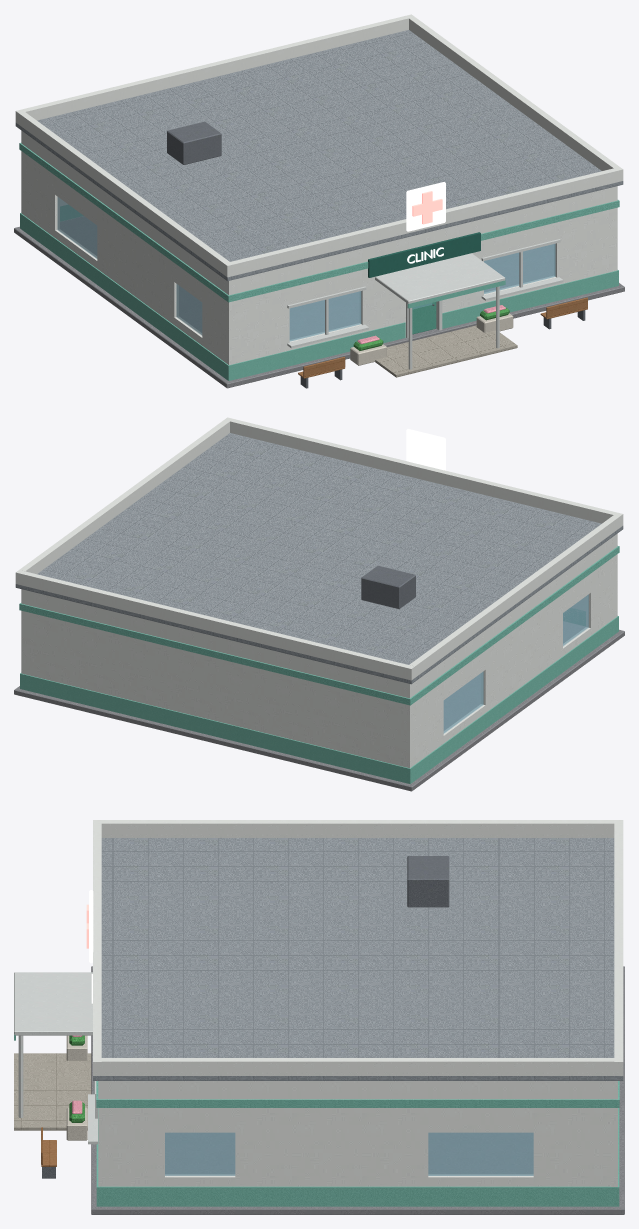
Rendered from exterior.glb.
The picture shows the model from 3 angles, top to bottom: view 1: azimuth 30°, elevation 25°; view 2: azimuth 150°, elevation 25°; view 3: azimuth 270°, elevation 25°; orthographic projection. The views are drawn at different scales.
Visible parts, largest first — view 1: EX_Roof.002, EX_Plinth.004, EX_Walls.003, EX_Parapet_Back.003, EX_Parapet_Front0.003, EX_ShellW_01.010, EX_ShellFront_00.014, EX_ShellFront_03.012, EX_MintBandTop, EX_Step.003, EX_Parapet_W.003, EX_Parapet_E.003 (+26 smaller); view 2: EX_Roof.002, EX_ShellBack_00.014, EX_Walls.003, EX_MintBand_Back, EX_Plinth.004, EX_Parapet_Back.003, EX_Parapet_Front0.003, EX_ShellW_01.010, EX_MintBandTop, EX_Parapet_W.003, EX_Parapet_E.003, EX_MintBand_W (+9 smaller); view 3: EX_Roof.002, EX_ShellE_01.010, EX_Plinth.004, EX_MintBand_E, EX_Walls.003, EX_Parapet_E.003, EX_Parapet_W.003, EX_ShellE_00.014, EX_Canopy.001, EX_Step.003, EX_MintBandTop, EX_ShellE_02.012 (+12 smaller).
Part boxes in pixels (x1,y1,x2,y2): EX_Roof.002: (15,30,623,281); EX_Plinth.004: (14,216,624,388); EX_Walls.003: (21,130,617,295); EX_Parapet_Back.003: (15,14,414,124); EX_Parapet_Front0.003: (224,167,623,277); EX_ShellW_01.010: (97,207,178,324); EX_ShellFront_00.014: (226,287,289,364); EX_ShellFront_03.012: (554,207,617,284); EX_MintBandTop: (19,143,619,302); EX_Step.003: (375,325,517,377); EX_Parapet_W.003: (19,112,229,274); EX_Parapet_E.003: (409,17,619,170); EX_Roof.002: (15,433,623,684); EX_ShellBack_00.014: (21,610,412,768); EX_Walls.003: (21,533,617,698); EX_MintBand_Back: (20,673,413,783); EX_Plinth.004: (14,621,624,791); EX_Parapet_Back.003: (15,570,414,680); EX_Parapet_Front0.003: (224,417,623,527); EX_ShellW_01.010: (481,594,562,712); EX_MintBandTop: (19,546,619,705); EX_Parapet_W.003: (409,515,619,677); EX_Parapet_E.003: (19,420,229,574); EX_MintBand_W: (413,618,615,781); EX_Roof.002: (93,838,623,1080); EX_ShellE_01.010: (235,1108,428,1186); EX_Plinth.004: (91,966,624,1214); EX_MintBand_E: (105,1186,610,1206); EX_Walls.003: (98,1081,617,1099); EX_Parapet_E.003: (101,1058,614,1075); EX_Parapet_W.003: (101,820,614,837); EX_ShellE_00.014: (533,1108,610,1186); EX_Canopy.001: (14,972,92,1035); EX_Step.003: (14,1053,91,1130); EX_MintBandTop: (96,1081,619,1107); EX_ShellE_02.012: (105,1108,164,1186).
Size of the model in its own units: 16.4 by 6.05 by 17.41.
16 materials, 14 textured.
